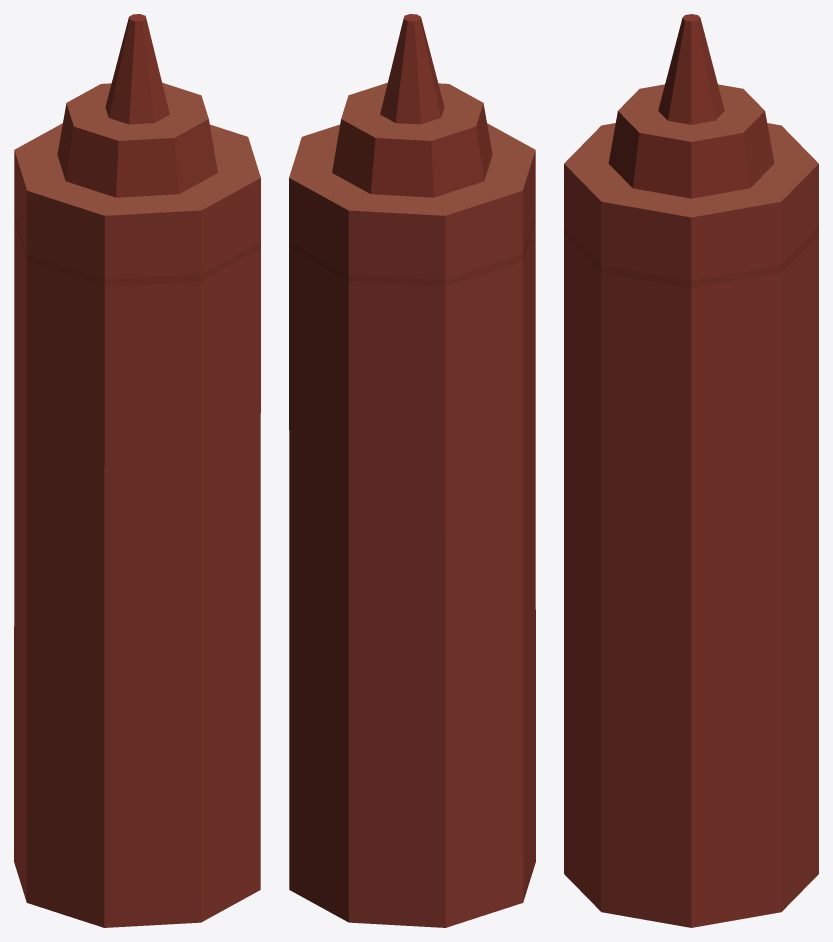
The model's file is Saus.fbx.
3 renders of one model, left to right at view 1: azimuth 30°, elevation 25°; view 2: azimuth 150°, elevation 25°; view 3: azimuth 270°, elevation 25°, orthographic.
Visible parts, largest first — view 1: 9 saus; view 2: 9 saus; view 3: 9 saus.
Part boxes in pixels (box(x1,y1,x2,y2)): 9 saus: box(14, 14, 260, 927); 9 saus: box(289, 14, 535, 927); 9 saus: box(564, 14, 818, 927).
Bounding box in the file's own units: 18.77 × 69.53 × 18.74.
